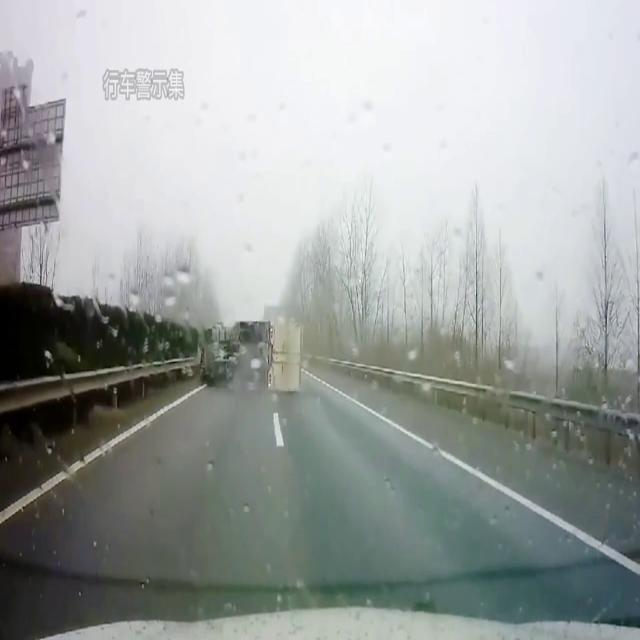multiple_accident: (171, 280, 479, 489)
